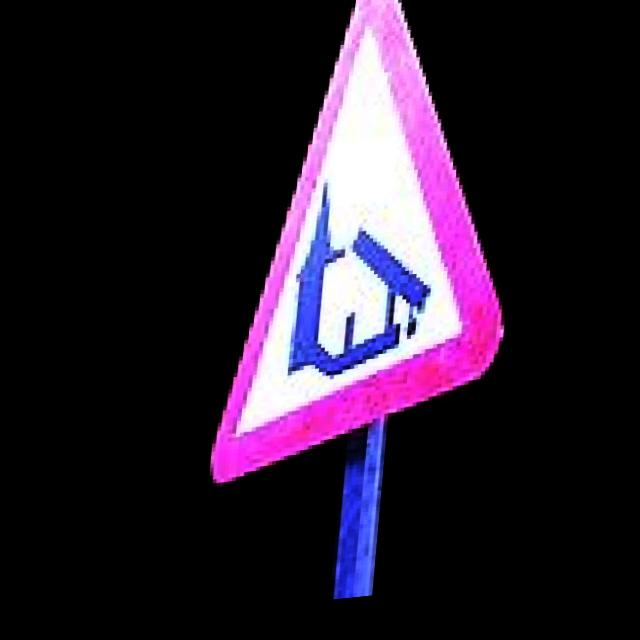BARRIER_AHEAD: (143, 0, 544, 504)
